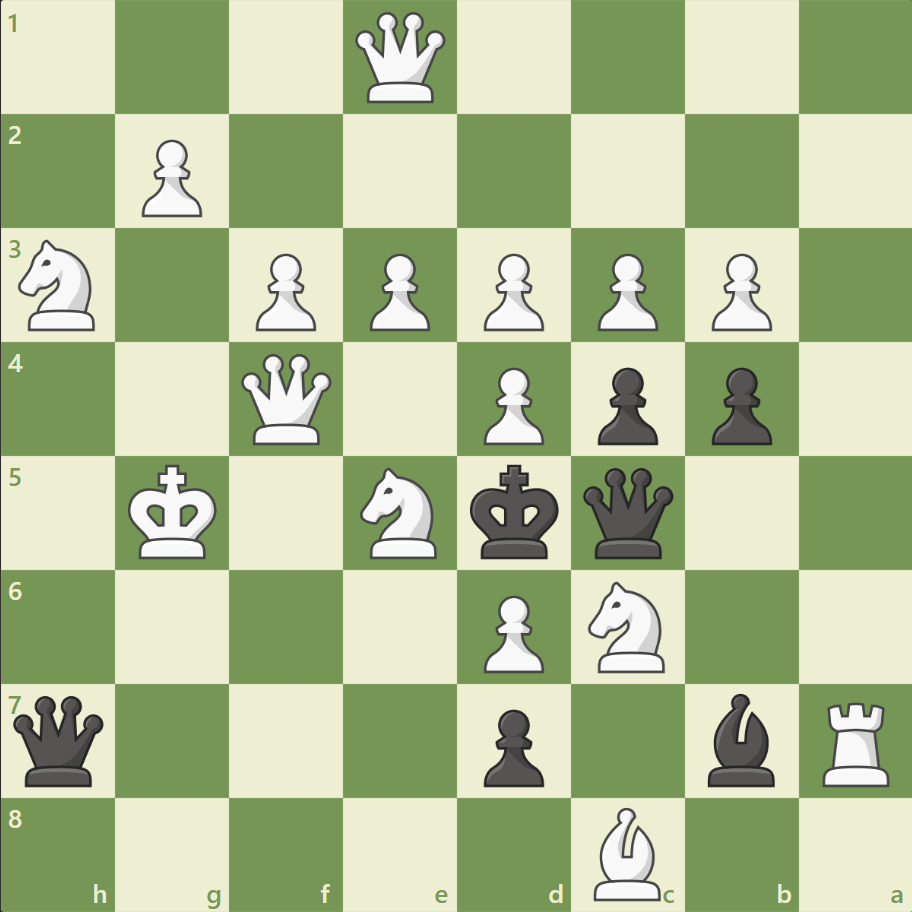B: (585, 801, 669, 904)
K: (124, 458, 224, 566)
N: (351, 461, 449, 564), (11, 234, 108, 337), (579, 575, 676, 677)
P: (474, 586, 549, 677), (474, 359, 549, 450), (701, 246, 776, 337), (474, 246, 549, 337), (247, 246, 322, 337), (133, 132, 208, 223), (588, 246, 662, 337), (361, 246, 435, 337)
Q: (237, 349, 336, 449), (351, 9, 450, 108)
R: (814, 693, 897, 790)
b: (698, 687, 782, 790)
k: (465, 458, 565, 566)
p: (474, 700, 549, 791), (701, 359, 776, 450), (588, 359, 662, 450)
q: (10, 690, 109, 789), (578, 463, 677, 562)
